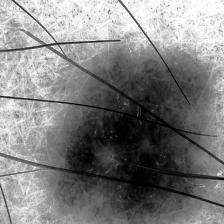Benign Marking or Mole: (58, 63, 219, 218)
